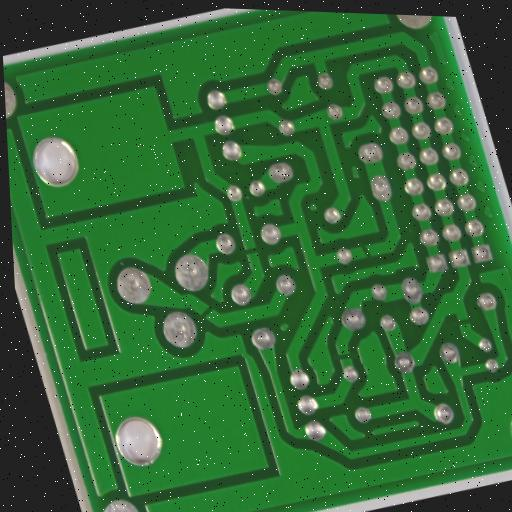open_circuit: (353, 239, 379, 264), (196, 299, 220, 324), (451, 311, 477, 334), (239, 242, 264, 262), (334, 347, 357, 367)
